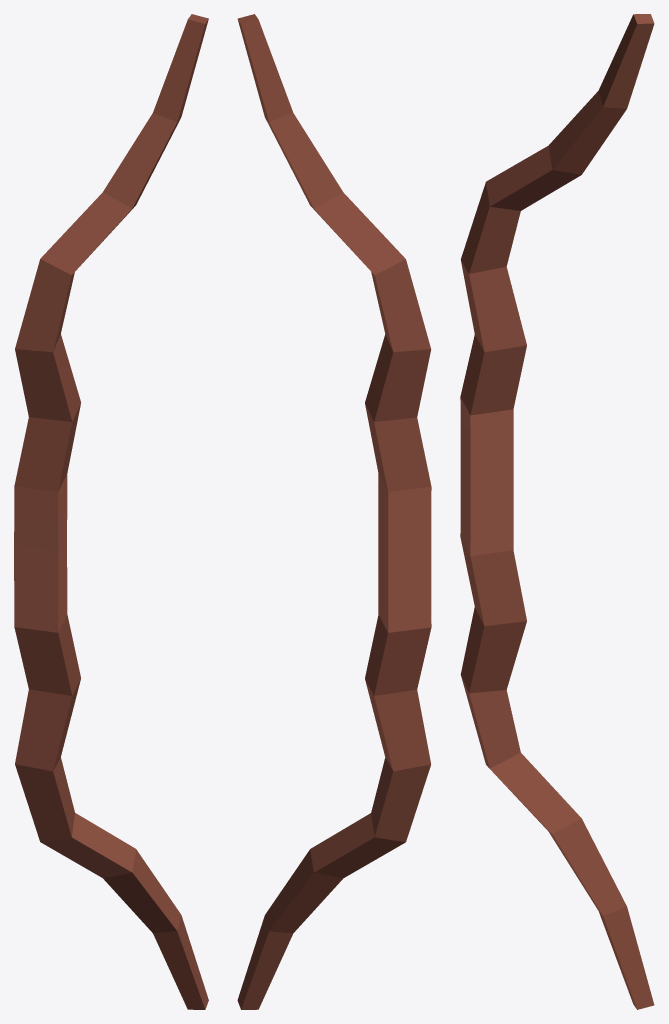
Rendered from bow_2-morph.glb.
3 views of the same model, side by side, from view 1: azimuth 30°, elevation 25°; view 2: azimuth 150°, elevation 25°; view 3: azimuth 330°, elevation 25° (orthographic).
Parts seen in each view (by area): view 1: ProceduralBow; view 2: ProceduralBow; view 3: ProceduralBow.
Boxes of the visible parts, x1,y1,x2,y2 form: ProceduralBow: (14, 14, 208, 1009); ProceduralBow: (237, 14, 431, 1009); ProceduralBow: (460, 14, 654, 1009).
Size of the model in its own units: 0.1758 by 0.8561 by 0.0523.
Materials: 1 (1 with a texture image).
